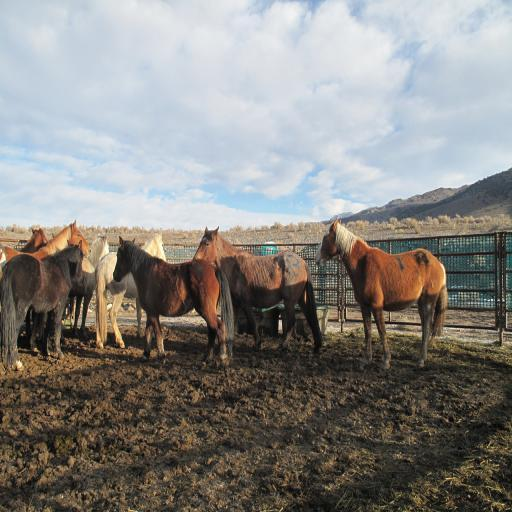horse: (0, 219, 325, 371), (316, 216, 448, 371)
